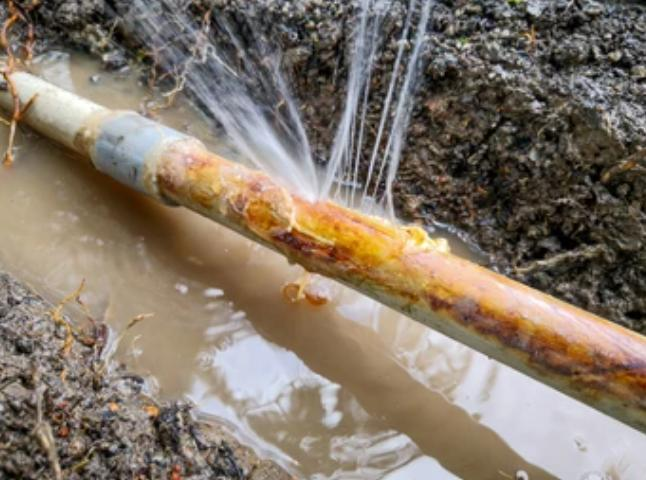pipe burst: (125, 0, 433, 228)
water accumulation: (1, 44, 646, 480)
